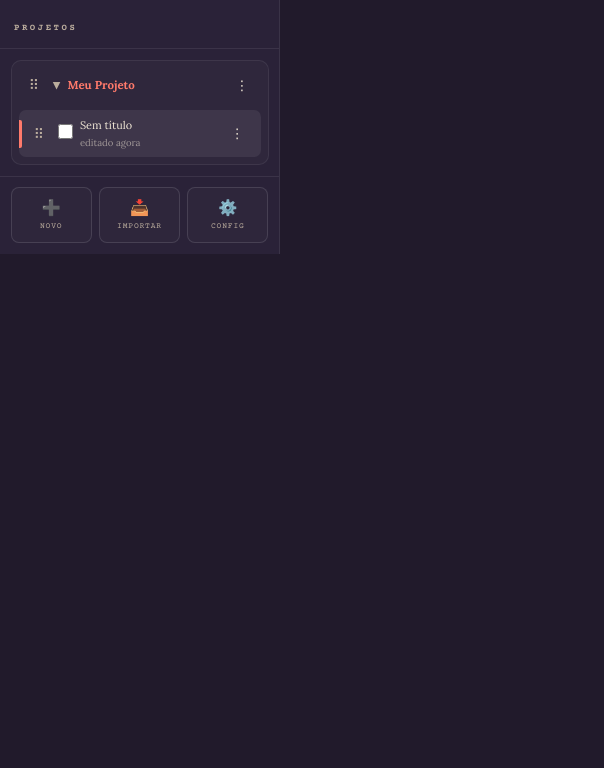
Test: ProjectsSidebar + useProjects › archive files feature › flips the menu item label between Arquivar/Desarquivar without a confirm dialog
The width and height of the screenshot is (604, 768).
Click the button named "Mais opções do arquivo Sem título" at point(237, 134), box [222,119,252,149]
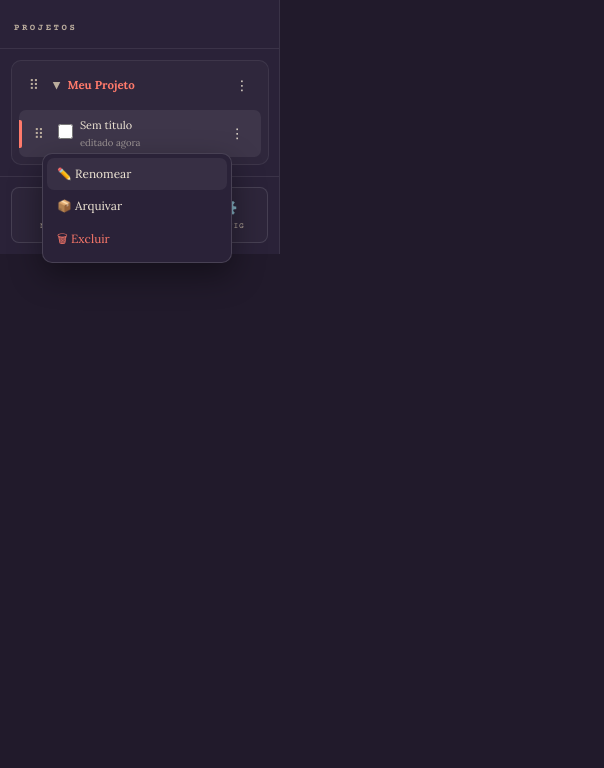
Click the menu item "📦 Arquivar" at point(137, 206), box [47,190,227,222]
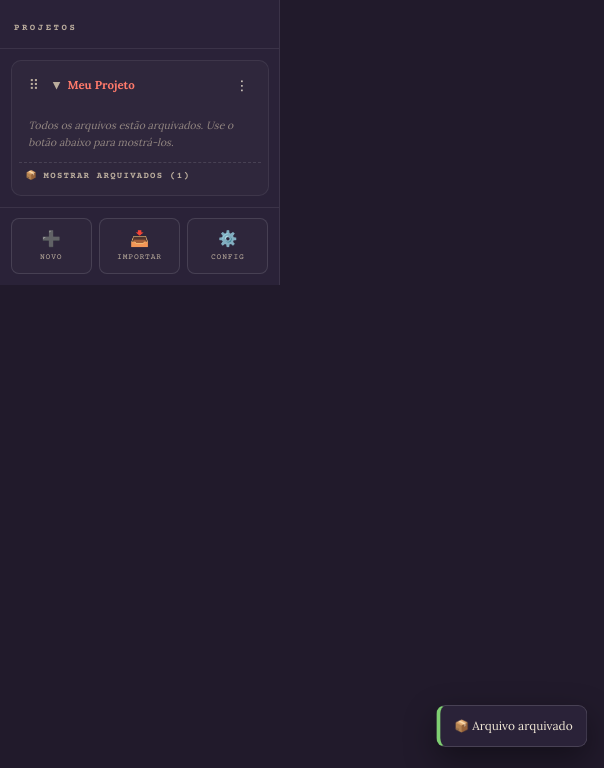
# Reveal it, reopen its menu, then check the item label flipped.
Click the button with aria-label "Mostrar arquivados de Meu Projeto (1)" at point(140, 175), box [18,162,260,188]
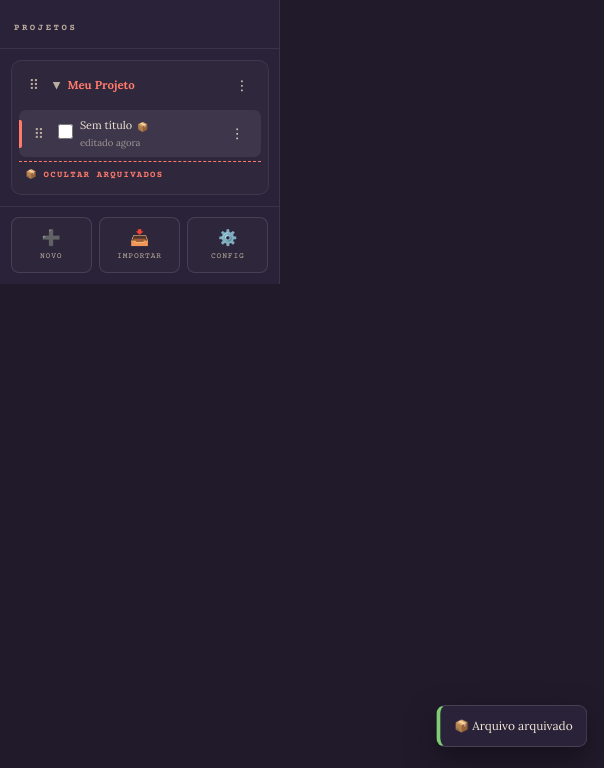
Click the button named "Mais opções do arquivo Sem título" at point(237, 134), box [222,119,252,149]
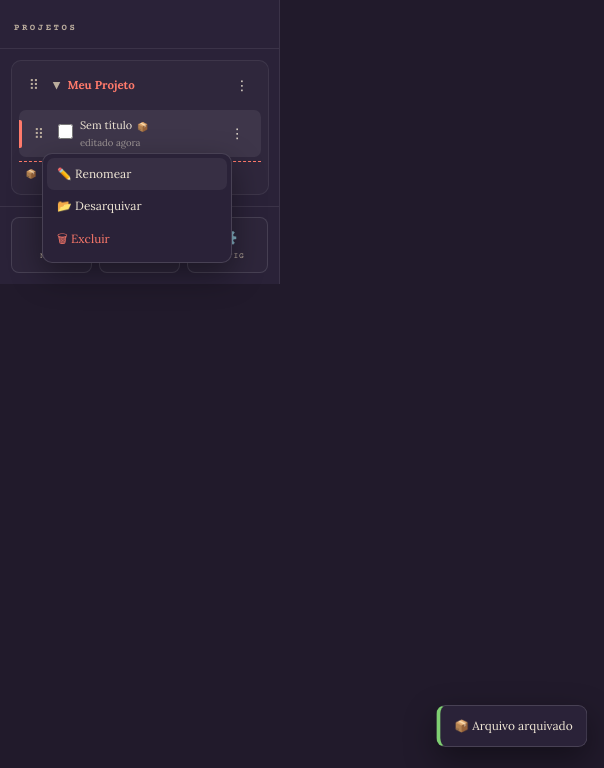
Expected: the menu item "📂 Desarquivar" is shown, [47,190,227,222]
